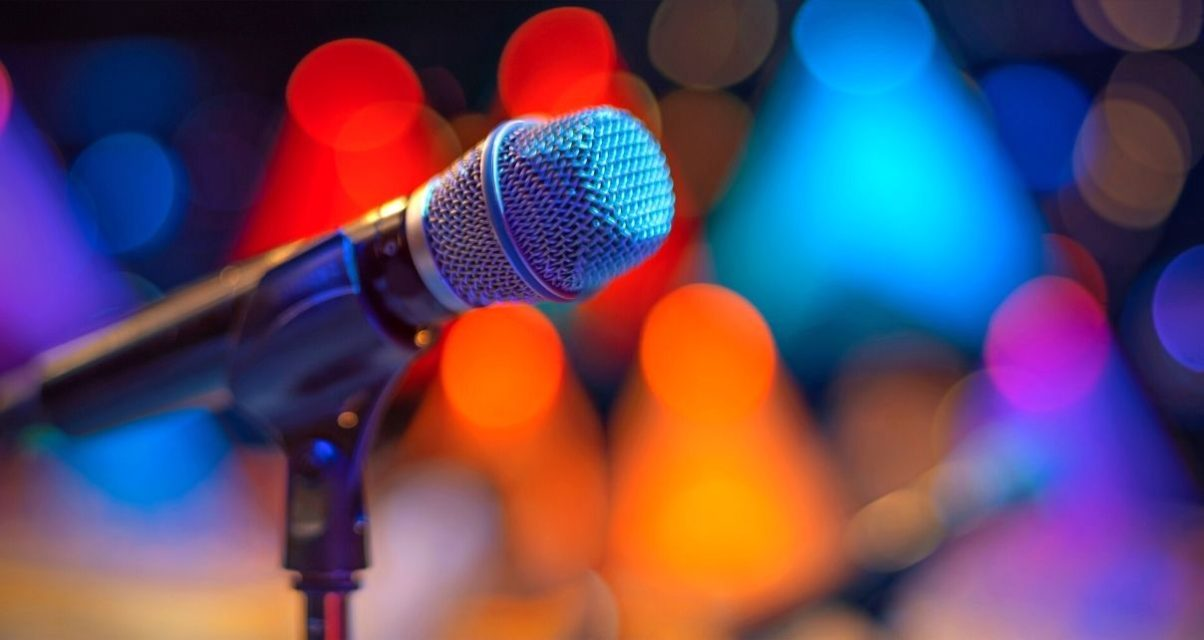microphone: (20, 102, 679, 444)
